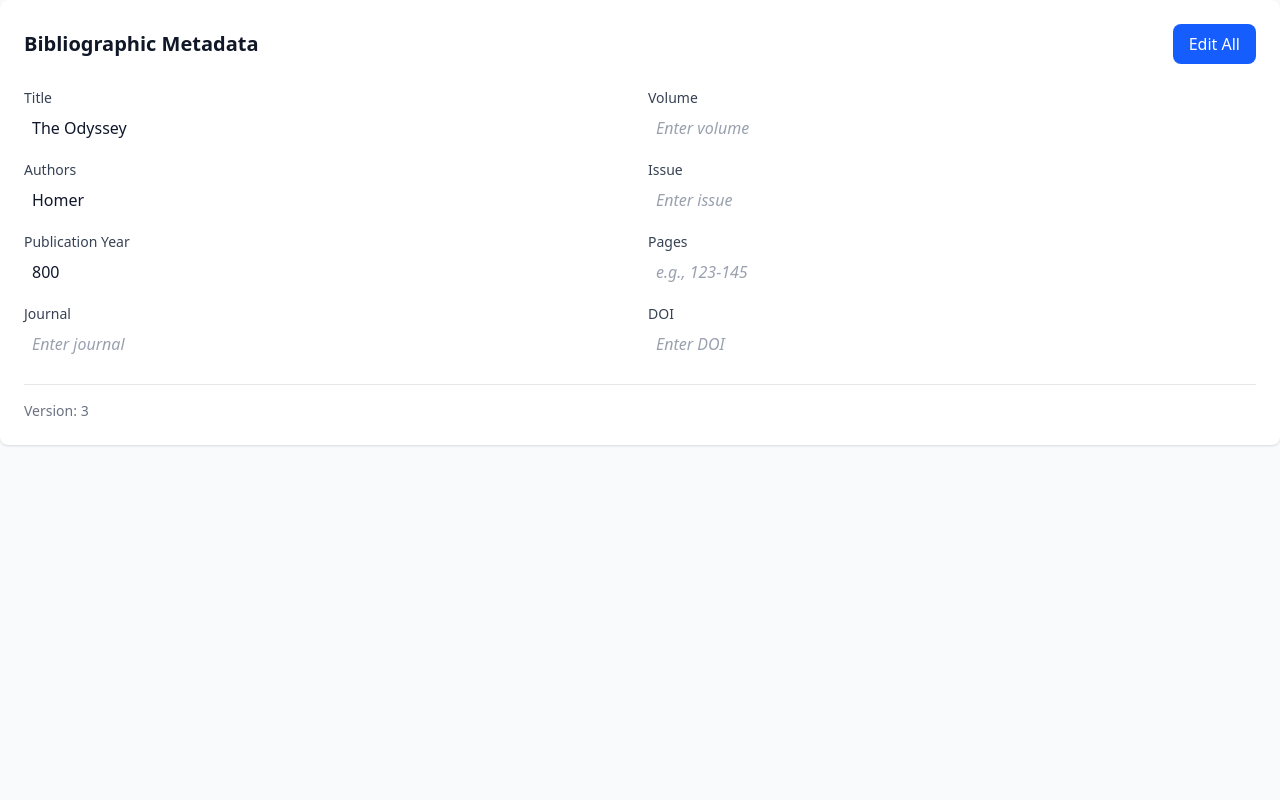
Scenario: MetadataPanel › marks unsaved changes after an inline edit and clears them
The image size is (1280, 800).
Double-click the text "The Odyssey" at (79, 128), box [32,117,127,139]
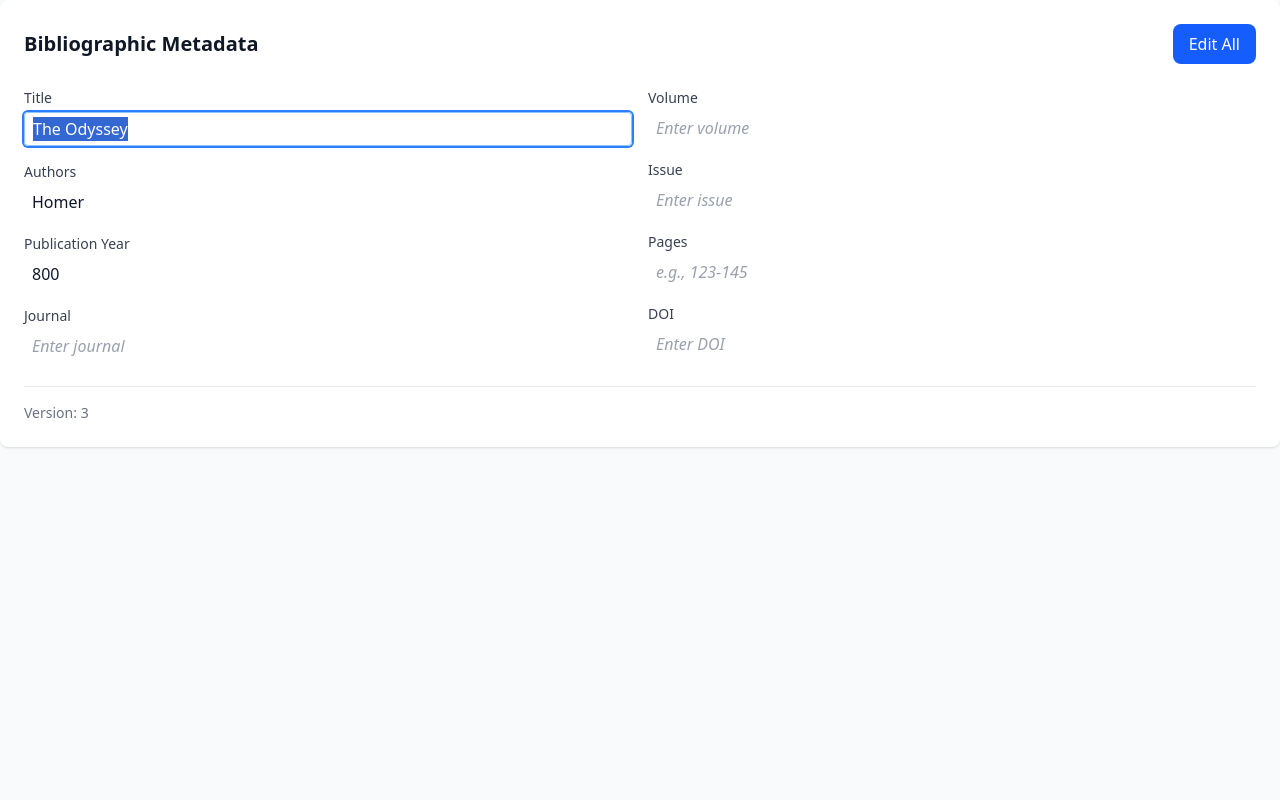
Replace the text in the field with "The Iliad" at (328, 129), box [24,112,632,146]
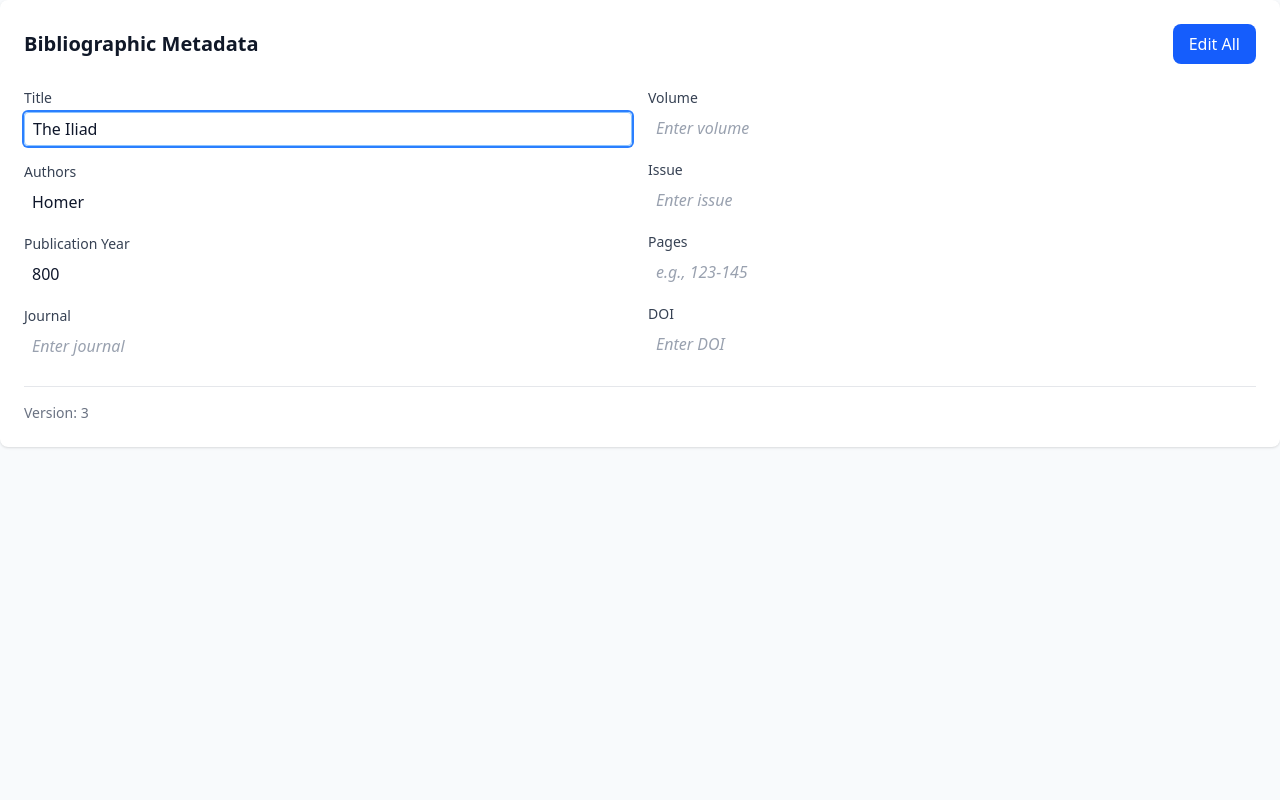
Leave the field, box [24,112,632,146]
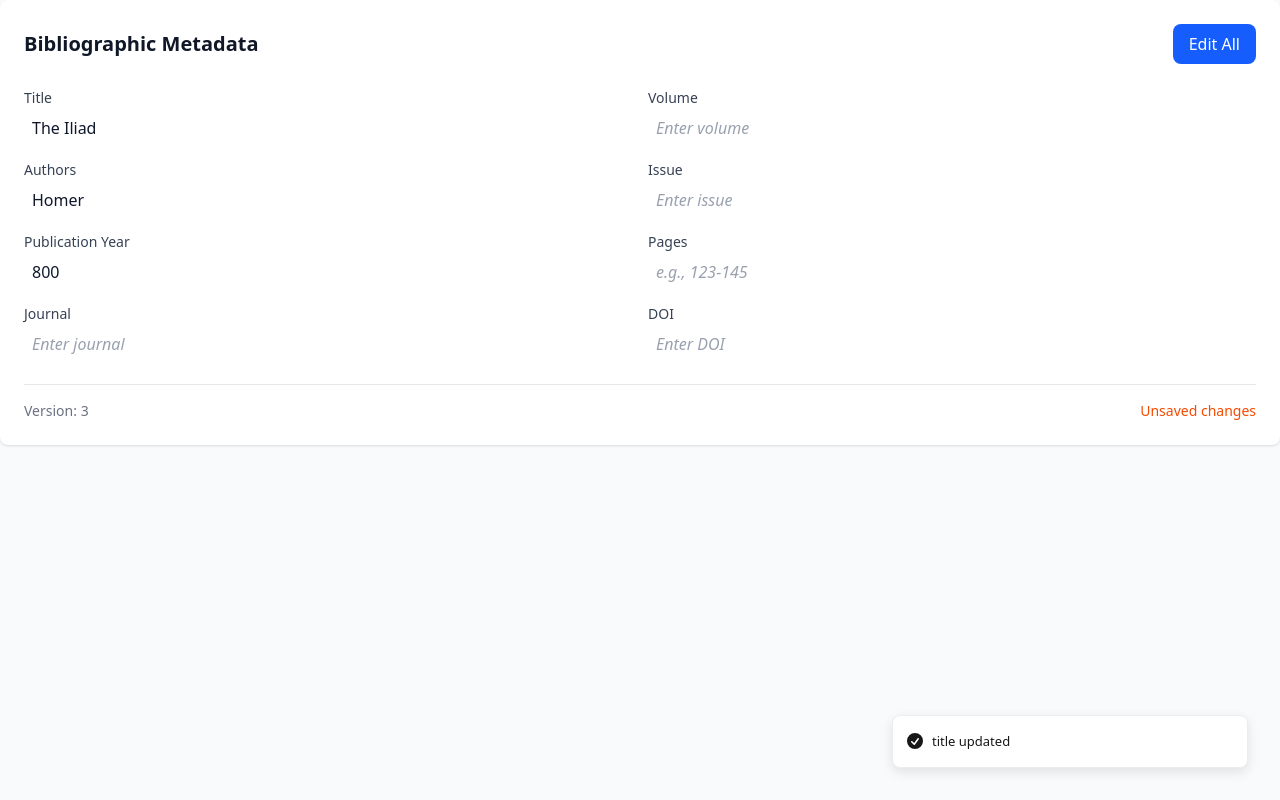
Result: the text "Unsaved changes" is shown at [1140,401,1256,421]
